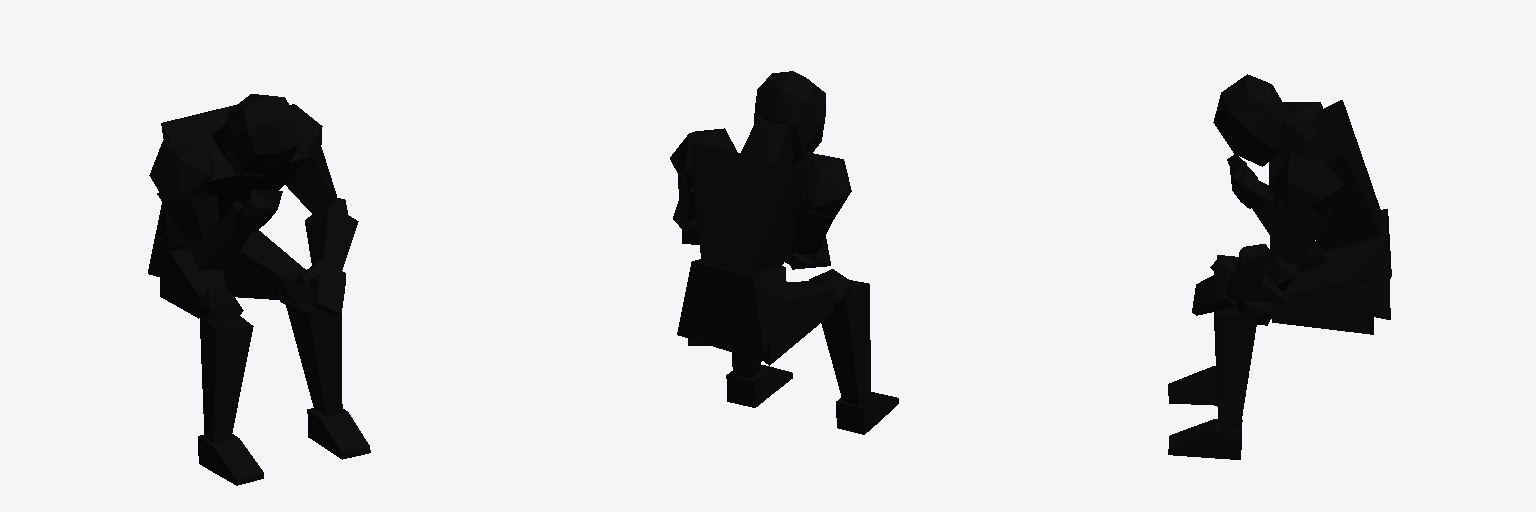
The model's file is Statue3.obj.
The picture shows the model from 3 angles: view 1: azimuth 30°, elevation 25°; view 2: azimuth 150°, elevation 25°; view 3: azimuth 270°, elevation 25°; orthographic projection.
Parts seen in each view (by area): view 1: Statue3_Cube.019; view 2: Statue3_Cube.019; view 3: Statue3_Cube.019.
Boxes of the visible parts, x1=… form: Statue3_Cube.019: x1=148, y1=94, x2=370, y2=485; Statue3_Cube.019: x1=670, y1=71, x2=898, y2=434; Statue3_Cube.019: x1=1168, y1=74, x2=1391, y2=459.
Bounding box in the file's own units: 0.7357 × 1.31 × 0.7606.